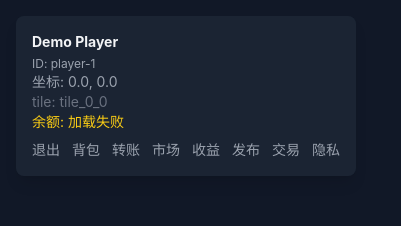
Scenario: PlayerHUD inventory › shows aggregated NPC purchases as inventory
The image size is (401, 226).
Click the button "背包": x=86, y=150 [72,140,100,160]
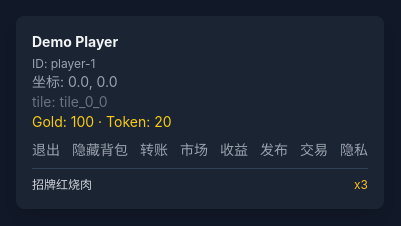
Check: the text "招牌红烧肉" is shown, box [32,177,92,193]
Check: the text "x3" is shown, box [354,177,368,193]
